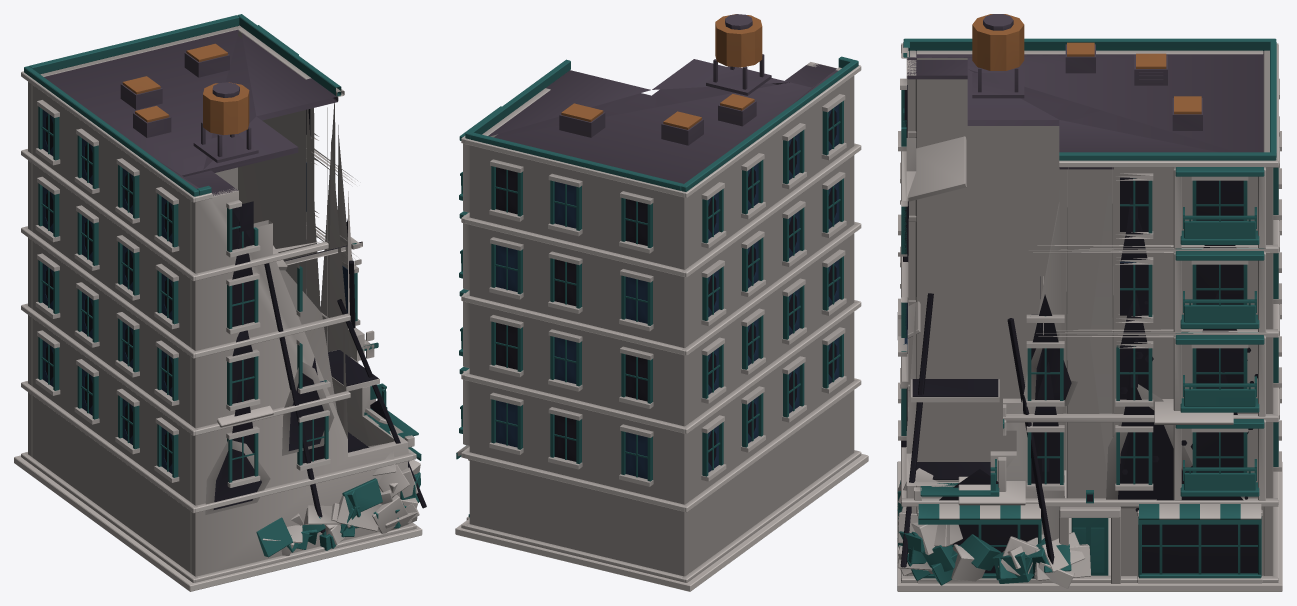
The picture shows the model from 3 angles, left to right: view 1: azimuth 30°, elevation 25°; view 2: azimuth 150°, elevation 25°; view 3: azimuth 270°, elevation 25°; orthographic projection. The views are drawn at different scales.
Visible parts, largest first — view 1: body_pal_picketWhite, body_pal_backpackTeal, roof_pal_asphalt, body_pal_uiDark, body_pal_blueTrim, roof_pal_woodWarm; view 2: body_pal_picketWhite, body_pal_backpackTeal, roof_pal_asphalt, body_pal_blueTrim, body_pal_uiDark, roof_pal_woodWarm; view 3: body_pal_picketWhite, body_pal_backpackTeal, body_pal_uiDark, roof_pal_asphalt, roof_pal_woodWarm, door_front_pal_backpackTeal.
Boxes of the visible parts, x1,y1,x2,y2 form: body_pal_picketWhite: (14, 25, 422, 591); body_pal_backpackTeal: (24, 14, 421, 557); roof_pal_asphalt: (44, 29, 338, 196); body_pal_uiDark: (45, 109, 426, 532); body_pal_blueTrim: (42, 110, 347, 473); roof_pal_woodWarm: (122, 43, 249, 135); body_pal_picketWhite: (455, 62, 868, 591); body_pal_backpackTeal: (456, 56, 858, 517); roof_pal_asphalt: (488, 14, 837, 183); body_pal_blueTrim: (496, 104, 839, 479); body_pal_uiDark: (496, 109, 836, 466); roof_pal_woodWarm: (561, 14, 762, 129); body_pal_picketWhite: (897, 43, 1282, 591); body_pal_backpackTeal: (897, 38, 1278, 585); body_pal_uiDark: (900, 85, 1257, 573); roof_pal_asphalt: (907, 14, 1263, 169); roof_pal_woodWarm: (972, 14, 1201, 114); door_front_pal_backpackTeal: (1071, 518, 1108, 575).
Bounding box in the file's own units: 10 × 17.76 × 12.6.
